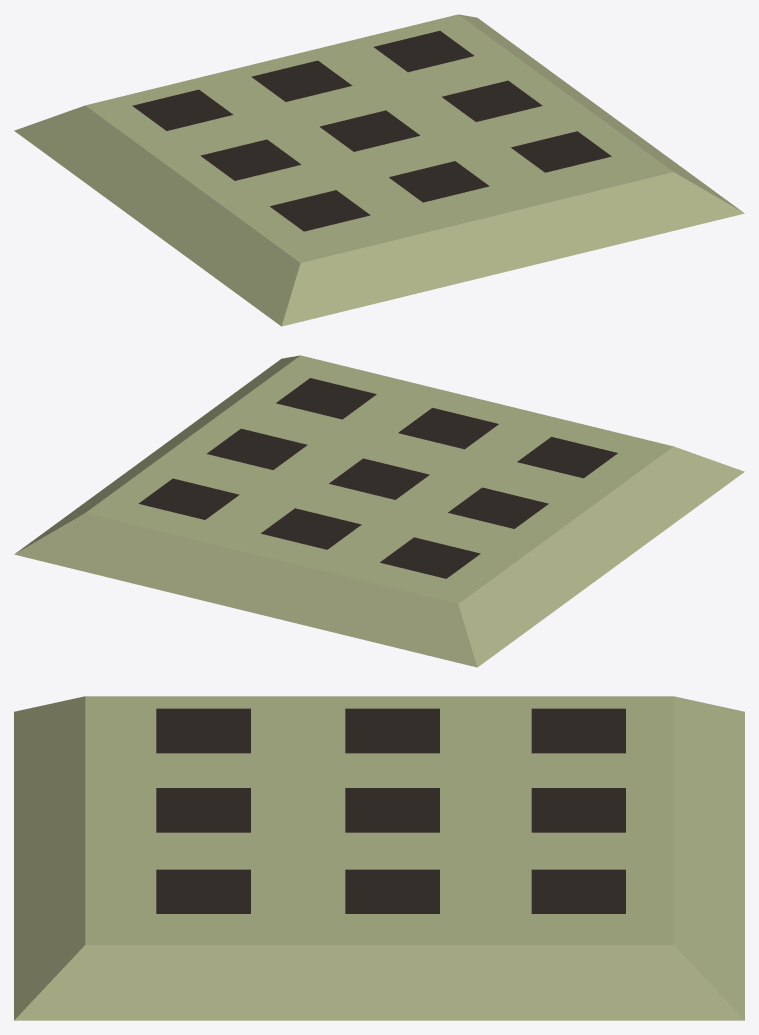
File: base_block_5x5_flame_pit.fbx
The picture shows the model from 3 angles, top to bottom: view 1: azimuth 30°, elevation 25°; view 2: azimuth 150°, elevation 25°; view 3: azimuth 270°, elevation 25°; orthographic projection. The views are drawn at different scales.
Visible parts, largest first — view 1: base_block_5x5_flame_pit; view 2: base_block_5x5_flame_pit; view 3: base_block_5x5_flame_pit.
Boxes of the visible parts, left/top/right/bottom form: base_block_5x5_flame_pit: left=14, top=14, right=744, bottom=326; base_block_5x5_flame_pit: left=14, top=355, right=744, bottom=667; base_block_5x5_flame_pit: left=14, top=696, right=744, bottom=1020.
Size of the model in its own units: 4.29 by 4.29 by 0.3417.
